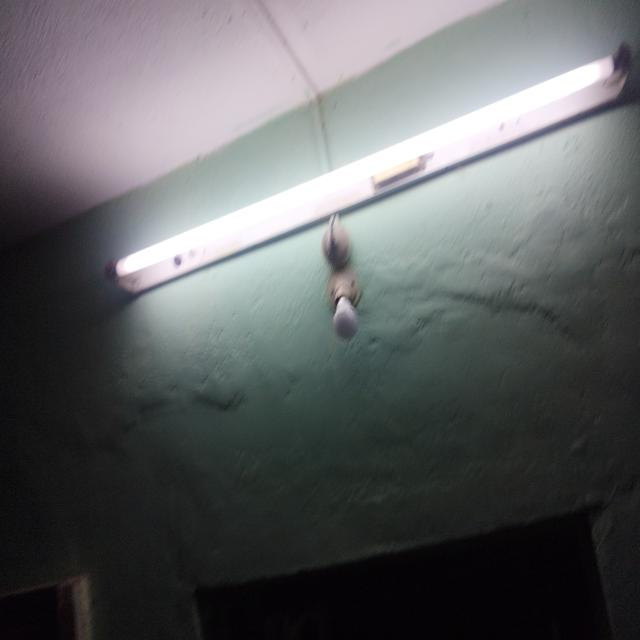tubelight_on: (106, 39, 635, 298)
